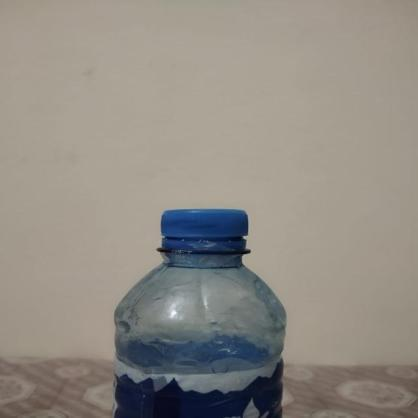cap: (158, 208, 250, 250)
label: (113, 363, 286, 418)
